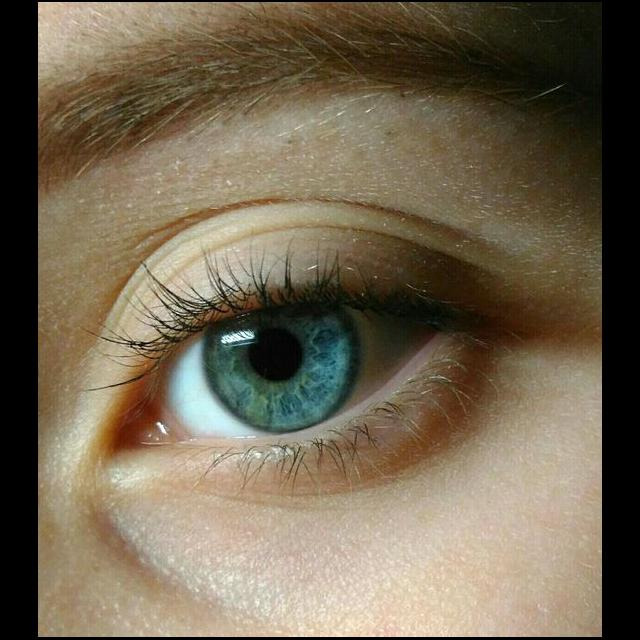eye: (153, 302, 433, 439)
iris: (203, 309, 359, 433)
